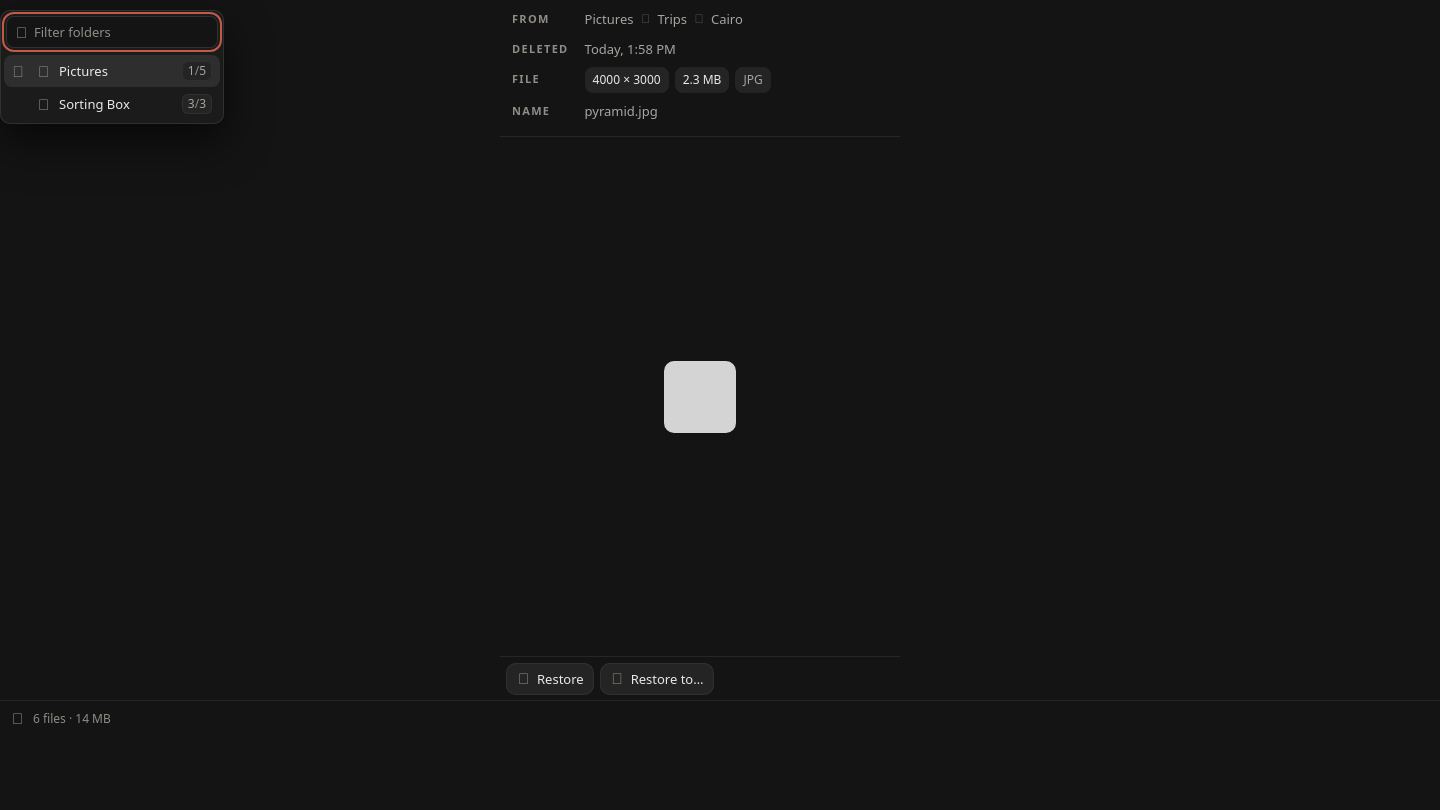
Scenario: a file emptied from the Recycle Bin outside the app is listed as gone, with no Retry
Click the button "Restore" at (550, 678), box [506, 662, 594, 694]
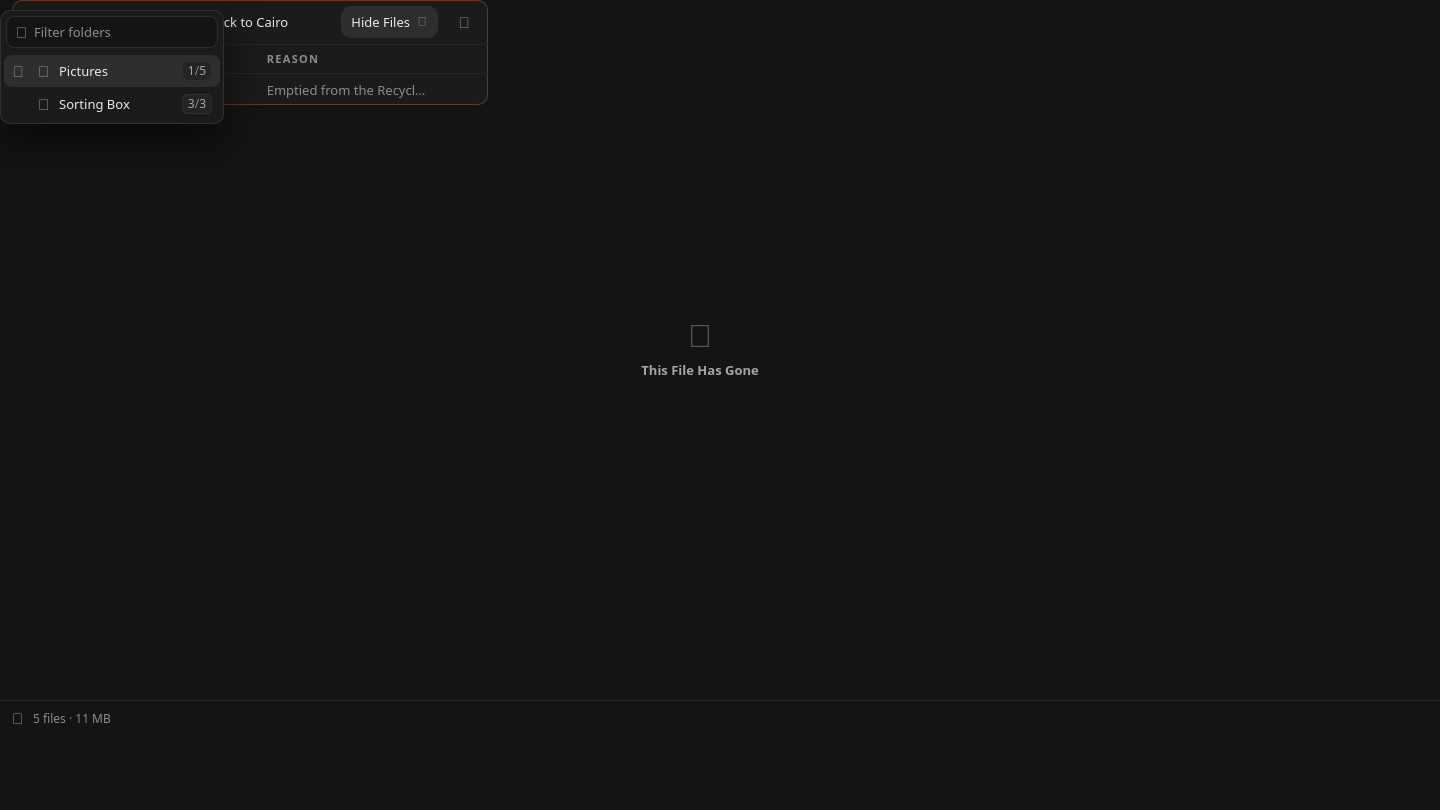
Result: the text "Gone from the Recycle Bin" is shown at [24, 51, 253, 67]
Result: the text "Emptied from the Recycle Bin outside Filmstrip" is shown at [267, 80, 430, 100]
